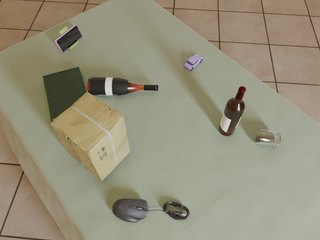book: (43, 67, 86, 122)
bottle: (219, 86, 246, 136), (88, 77, 158, 95)
box: (50, 92, 130, 180)
cup: (256, 129, 281, 146)
mouse: (112, 198, 151, 222)
phone: (55, 25, 82, 53)
toy_car: (184, 54, 202, 71)
